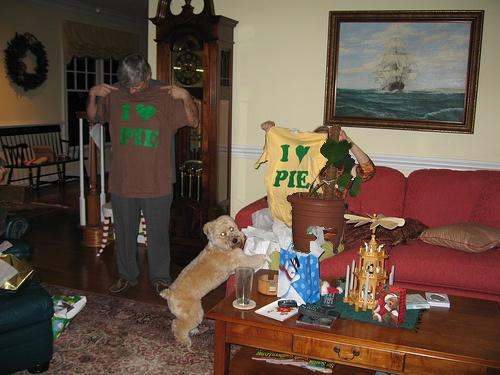tampered: (287, 126, 361, 254)
